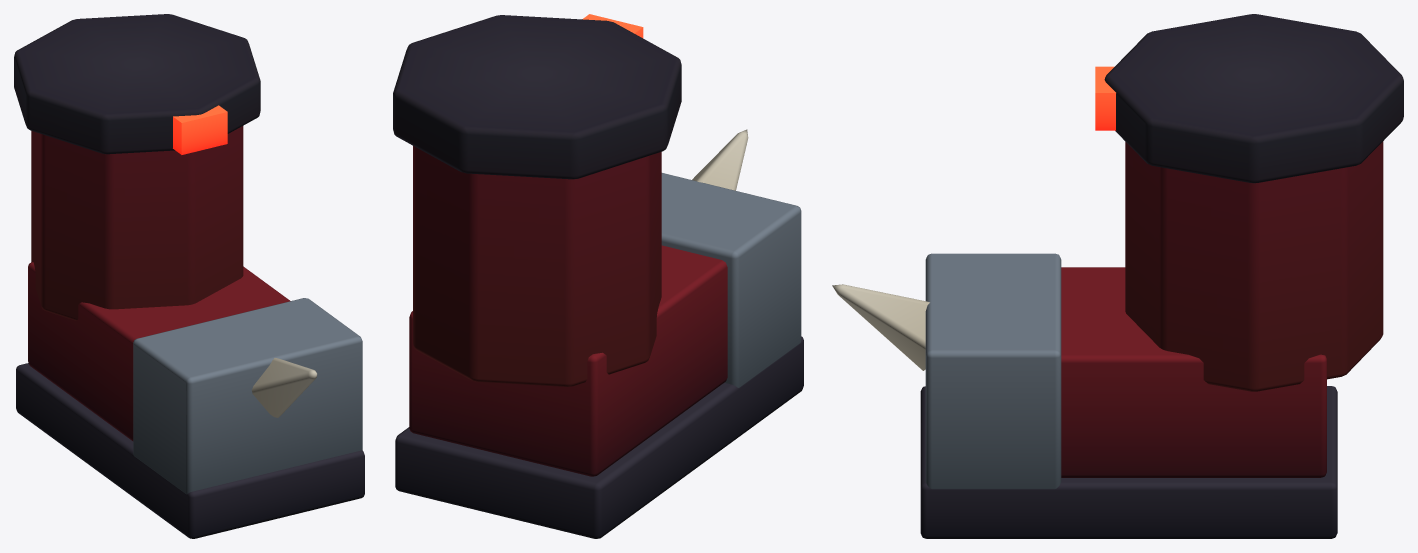
File: nightfang_boots.glb
3 views of the same model, side by side, from view 1: azimuth 30°, elevation 25°; view 2: azimuth 150°, elevation 25°; view 3: azimuth 270°, elevation 25° (orthographic). The views are drawn at different scales.
Parts seen in each view (by area): view 1: nightfang_boots, nightfang_boots_glow; view 2: nightfang_boots; view 3: nightfang_boots, nightfang_boots_glow.
Boxes of the visible parts, x1=… form: nightfang_boots: x1=14, y1=14, x2=364, y2=538; nightfang_boots_glow: x1=173, y1=105, x2=227, y2=154; nightfang_boots: x1=393, y1=15, x2=803, y2=538; nightfang_boots: x1=832, y1=14, x2=1403, y2=538; nightfang_boots_glow: x1=1095, y1=66, x2=1115, y2=130.
Size of the model in its own units: 0.5746 by 0.88 by 1.1.
